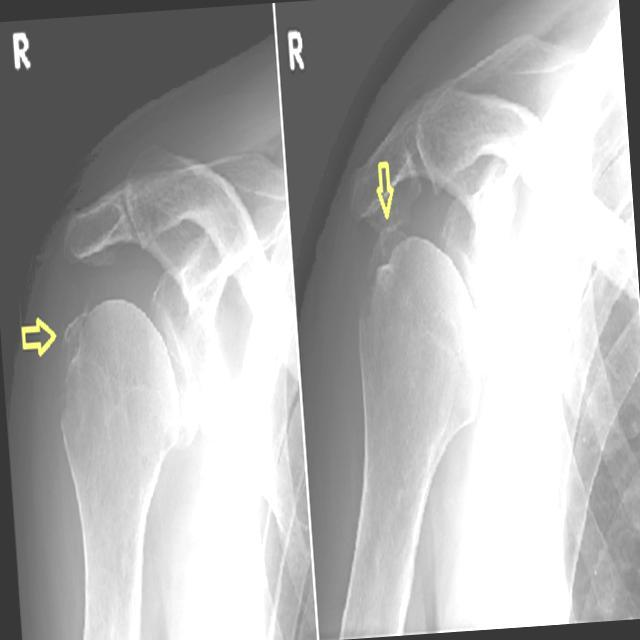Comminuted Fracture: (41, 293, 100, 372), (339, 216, 421, 266)
